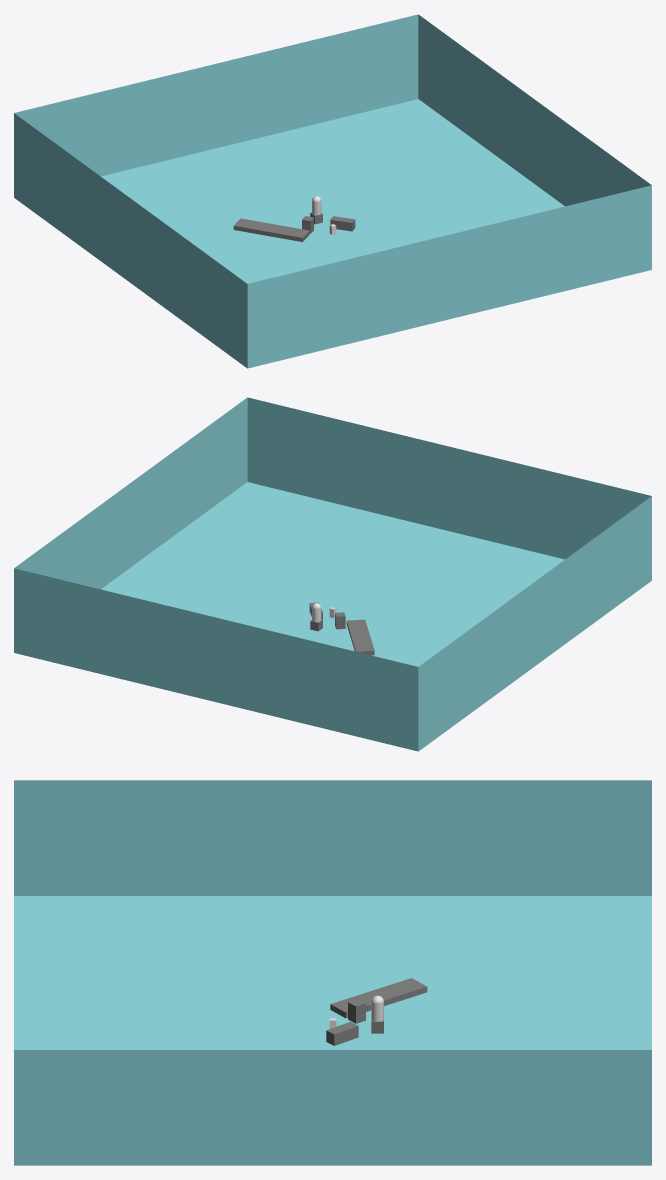
The model's file is RoomBlockOut1.fbx.
3 renders of one model, top to bottom at view 1: azimuth 30°, elevation 25°; view 2: azimuth 150°, elevation 25°; view 3: azimuth 270°, elevation 25°, orthographic. The views are drawn at different scales.
Visible parts, largest first — view 1: Plane, Cube.004; view 2: Plane, Cube.004; view 3: Plane, Cube.004, Cube.002.
Part boxes in pixels (x1,y1,x2,y2): Plane: (14,14,651,368); Cube.004: (233,218,309,241); Plane: (14,397,651,751); Cube.004: (346,619,374,655); Plane: (14,780,651,1165); Cube.004: (330,978,427,1018); Cube.002: (326,1021,358,1045).
Bounding box in the file's own units: 10000 × 2000 × 10000.
